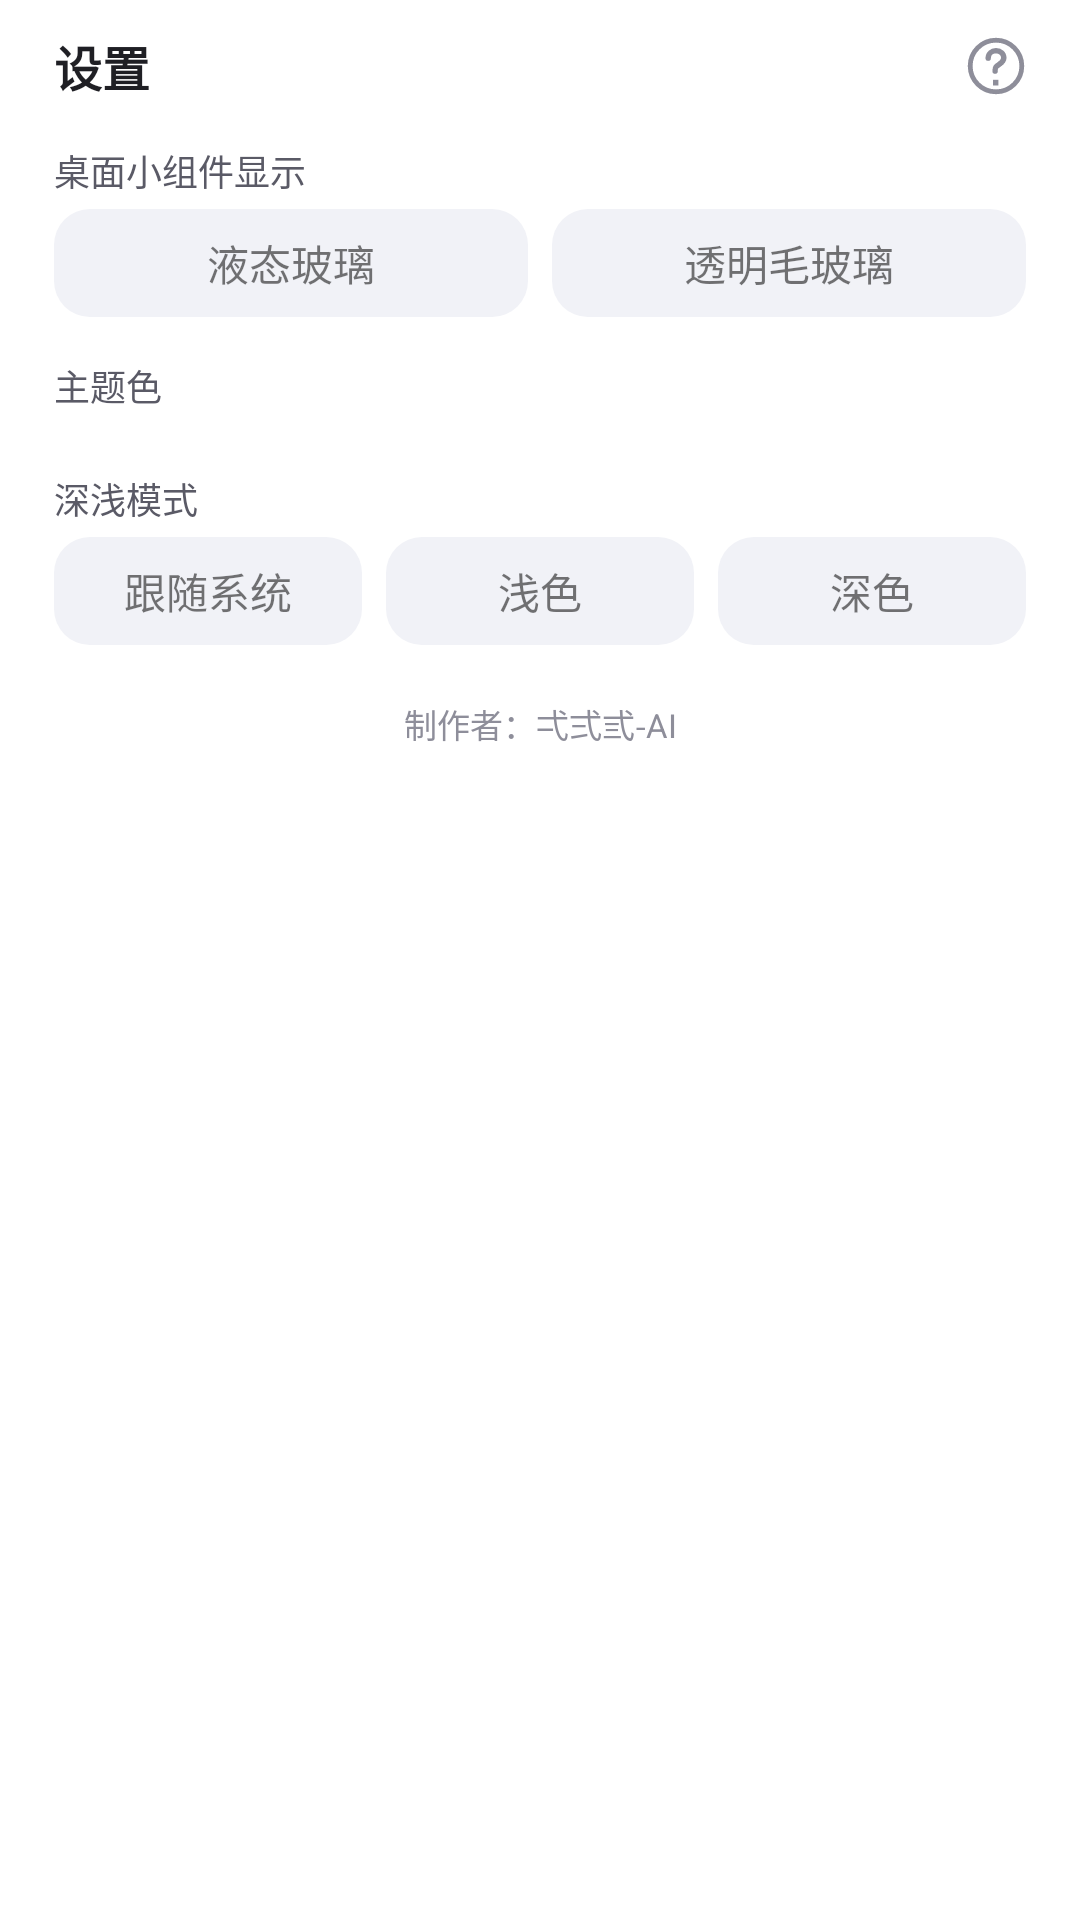

Screen size 1080 x 1920. Icon name, then its box in pixels as bbox(x1, y1, x2, y2):
说明: bbox(967, 38, 1024, 94)
